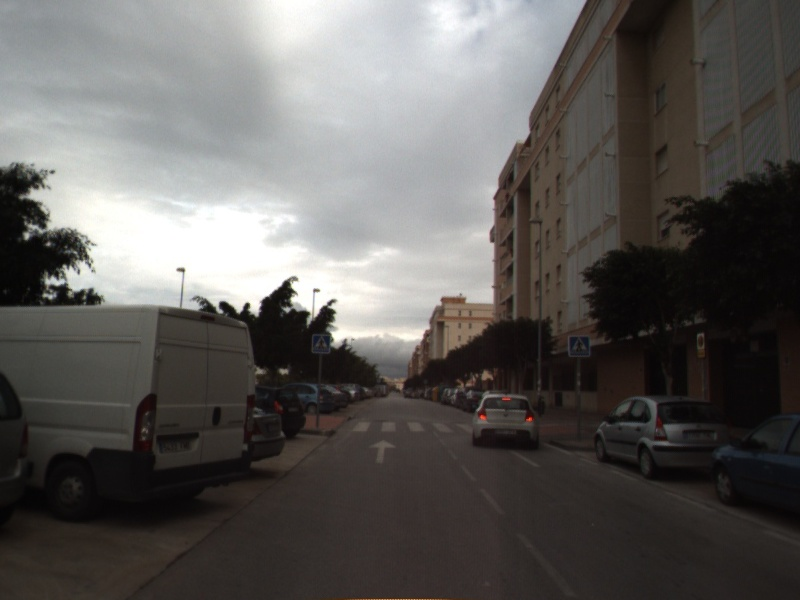STRAIGHT: (367, 437, 399, 465)
